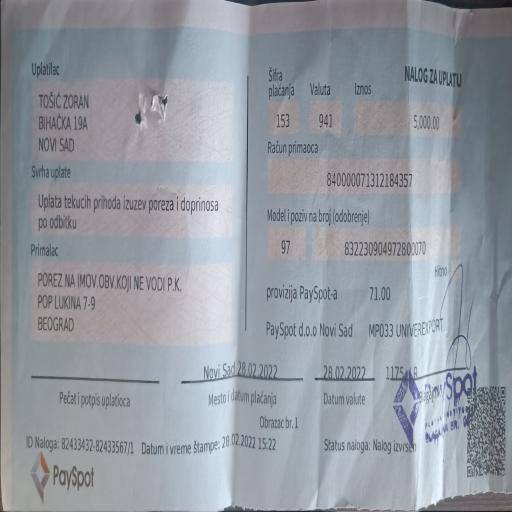svrha_uplate: (30, 154, 231, 238)
uplatnica: (263, 58, 463, 264)
